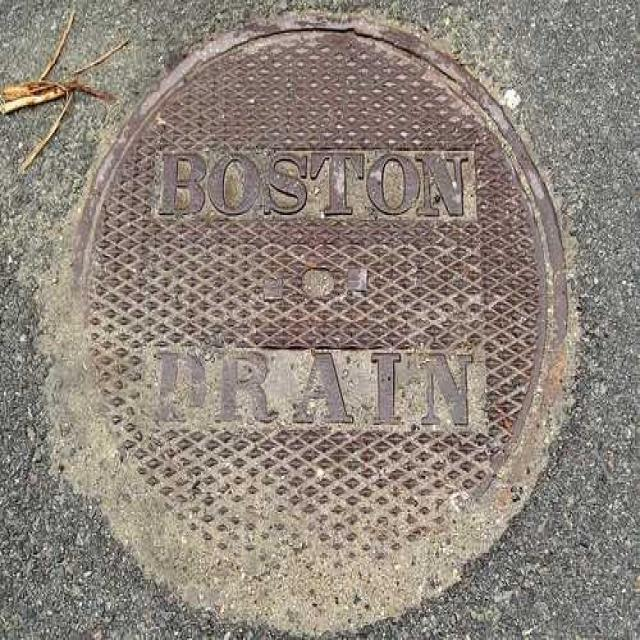manhole: (41, 19, 573, 633)
